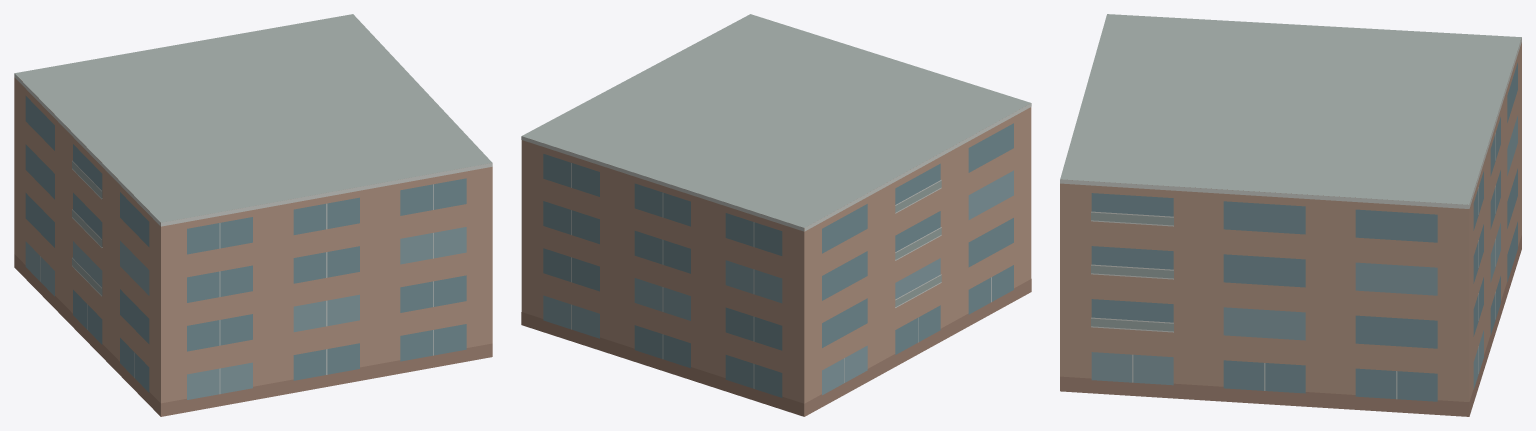
Rendered from residential-1c8af5d6-0a6d-4f8b-b37a-87e808031a4c.glb.
3 views of the same model, side by side, from view 1: azimuth 30°, elevation 25°; view 2: azimuth 150°, elevation 25°; view 3: azimuth 270°, elevation 25° (orthographic). The views are drawn at different scales.
Visible parts, largest first — view 1: residential-1c8af5d6-0a6d-4f8b-b37a-87e808031a4c.tmp; view 2: residential-1c8af5d6-0a6d-4f8b-b37a-87e808031a4c.tmp; view 3: residential-1c8af5d6-0a6d-4f8b-b37a-87e808031a4c.tmp.
Boxes of the visible parts, bbox=[...] form: residential-1c8af5d6-0a6d-4f8b-b37a-87e808031a4c.tmp: bbox=[14, 14, 492, 416]; residential-1c8af5d6-0a6d-4f8b-b37a-87e808031a4c.tmp: bbox=[521, 14, 1031, 416]; residential-1c8af5d6-0a6d-4f8b-b37a-87e808031a4c.tmp: bbox=[1060, 14, 1521, 416].
Size of the model in its own units: 23.56 by 12.2 by 24.09.
